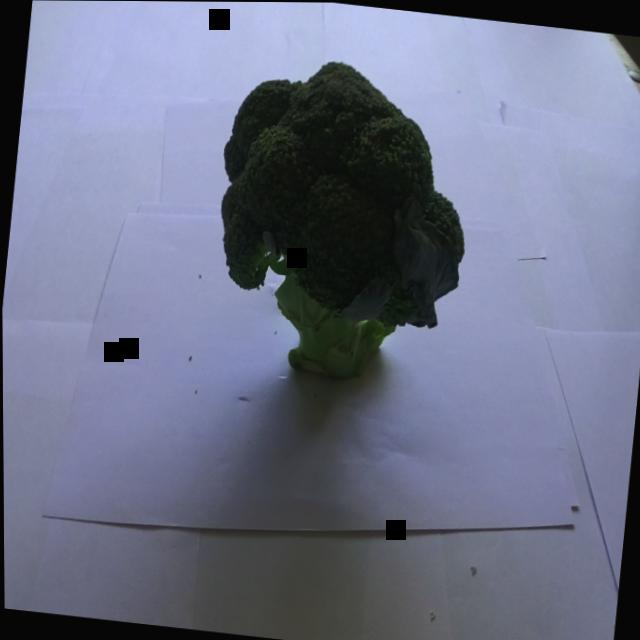Broccoli: (187, 27, 502, 410)
